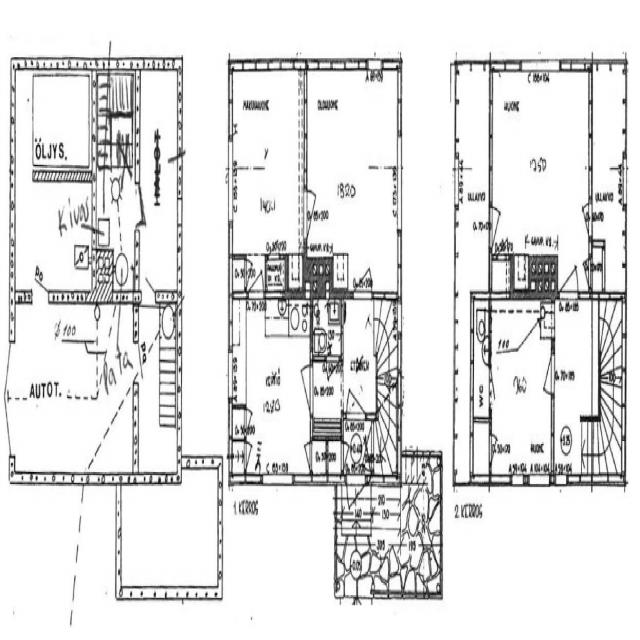door: (346, 362, 366, 419), (134, 183, 157, 229), (304, 189, 326, 237), (346, 474, 364, 532), (560, 242, 578, 300), (354, 243, 372, 299), (353, 422, 374, 470), (32, 245, 49, 302), (292, 365, 312, 413), (133, 342, 154, 384), (0, 398, 15, 456), (0, 341, 15, 398), (489, 206, 508, 248), (248, 251, 264, 299), (141, 252, 156, 302), (536, 356, 554, 394), (576, 202, 592, 237), (489, 369, 504, 403), (577, 256, 592, 288), (326, 355, 338, 392), (497, 223, 509, 260), (489, 434, 503, 464), (299, 442, 312, 471), (244, 443, 257, 471), (341, 443, 354, 469), (269, 228, 279, 260), (244, 261, 256, 287), (244, 411, 256, 436)
